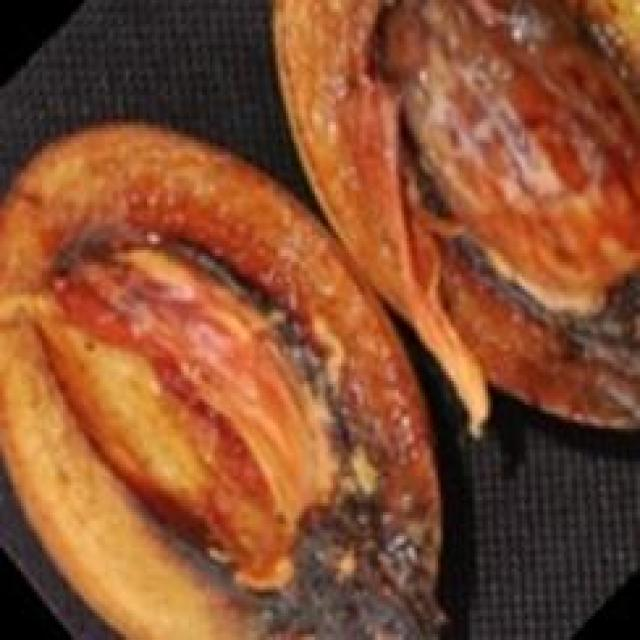damaged: (0, 119, 459, 637), (270, 0, 637, 435)
